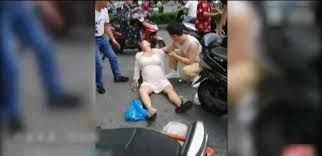fall: (125, 36, 198, 122)
